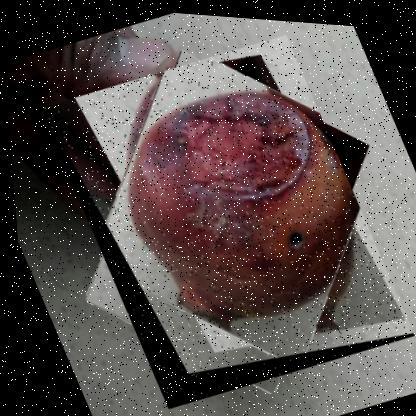pomegranate_rotten: (30, 15, 415, 415)
